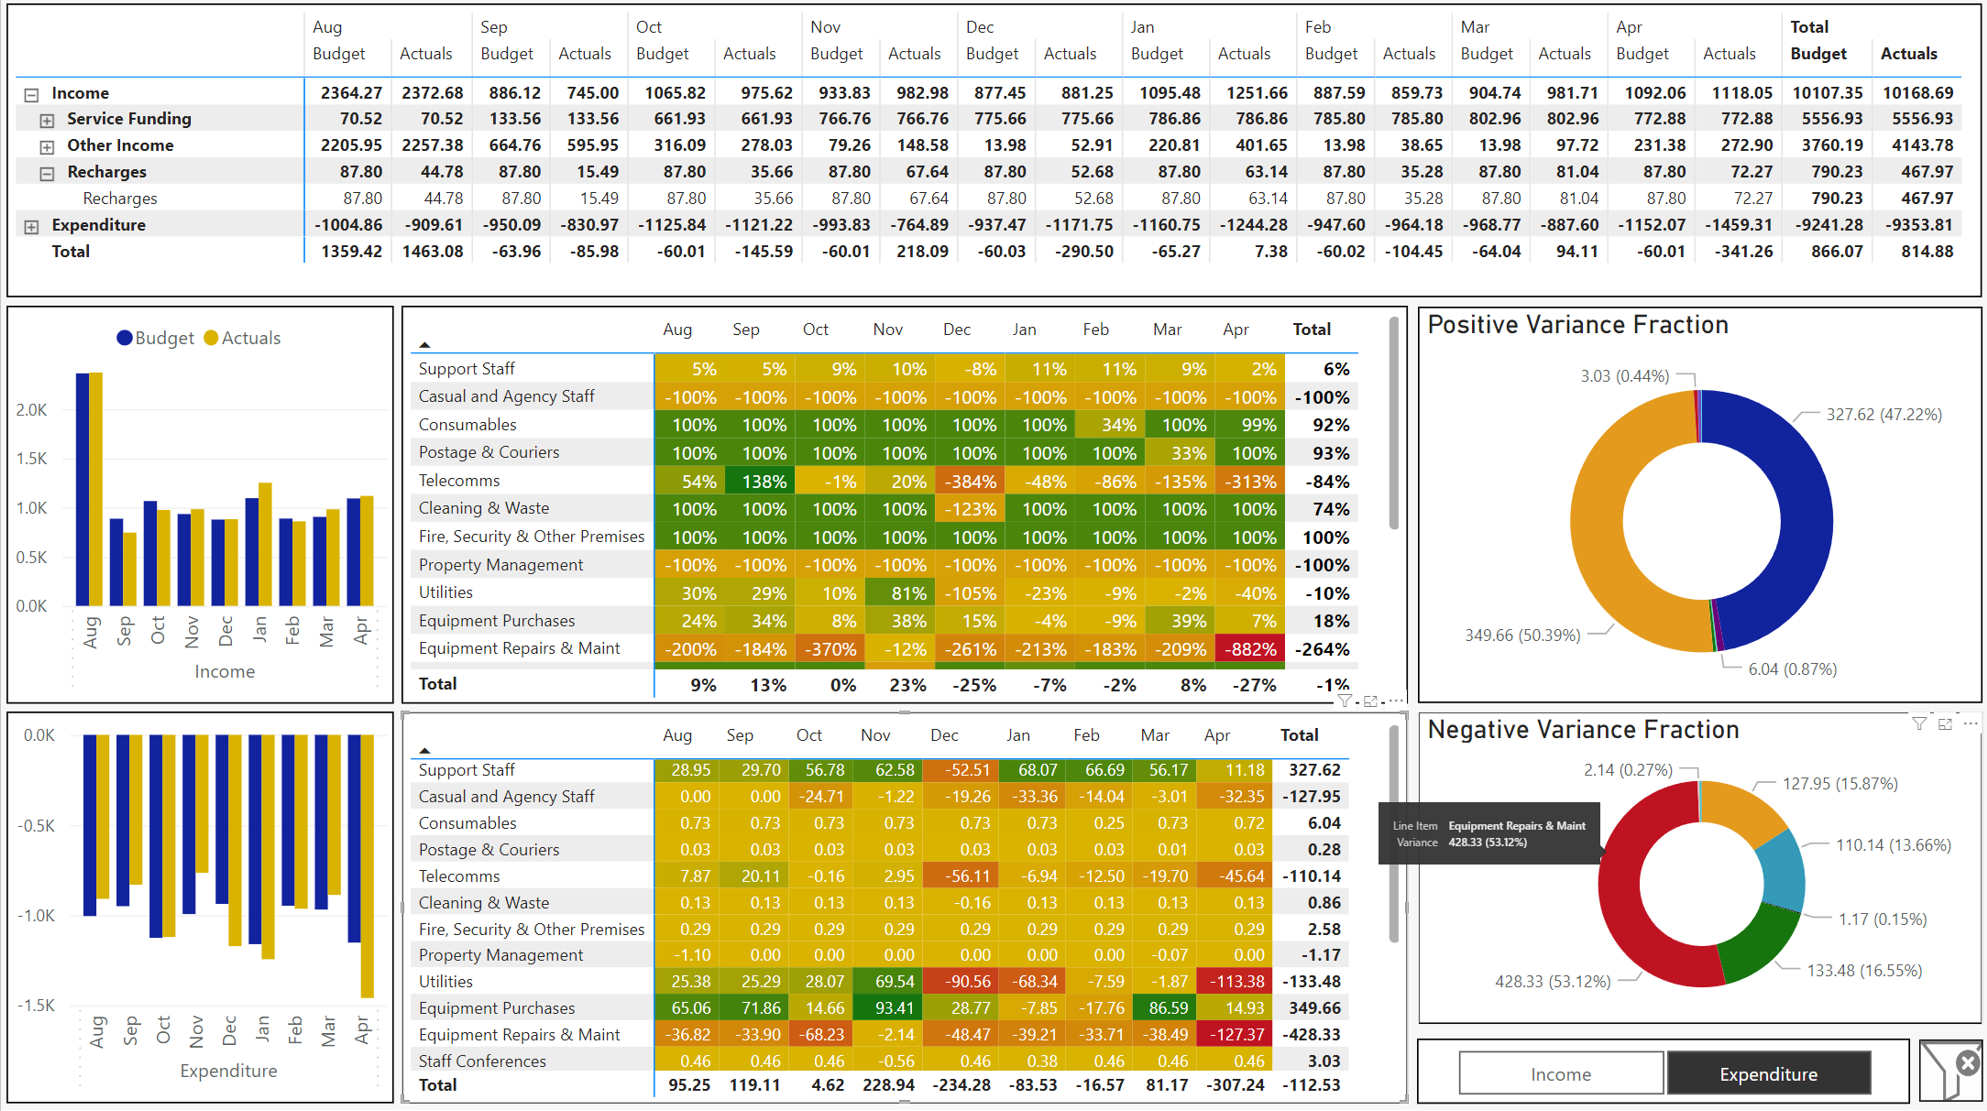

What the dashboard file says about the page in this screenshot:
{"tool":"powerbi","page":{"name":"Page 1","canvas":[1280,720],"ordinal":0},"visuals":[{"type":"slicer","fields":{"Values":["IE_Data.IE"]},"box":[46.7,596.5,150.5,49.8],"z":0},{"type":"slicer","fields":{"Values":["IE_Data.IE"]},"box":[98.3,247.6,143.8,51.6],"z":1000},{"type":"clusteredColumnChart","title":"Income by Month","fields":{"Category":["IE_Data.IE","IE_Data.Month"],"Y":["Sum(IE_Data.Budget)","Sum(IE_Data.Actuals)"]},"box":[4.9,460.8,249.4,251.9],"z":2000},{"type":"clusteredColumnChart","title":"Income by Month","fields":{"Category":["IE_Data.IE","IE_Data.Month"],"Y":["IE_Data.Budget_ABS","IE_Data.Actuals_ABS"]},"box":[4.9,199.7,249.4,256.2],"z":3000},{"type":"pivotTable","fields":{"Rows":["IE_Data.IE","IE_Data.Category","IE_Data.Subcategory"],"Columns":["IE_Data.Month"],"Values":["Sum(IE_Data.Budget)","Sum(IE_Data.Actuals)"]},"box":[4.9,5.5,1269.8,188.6],"z":4000},{"type":"pivotTable","fields":{"Columns":["IE_Data.Month"],"Values":["IE_Data.Varience"],"Rows":["IE_Data.Subcategory"]},"box":[258.6,460.8,646.9,251.9],"z":5000},{"type":"pivotTable","fields":{"Rows":["IE_Data.Subcategory"],"Columns":["IE_Data.Month"],"Values":["IE_Data.Varience %"]},"box":[258.6,199.7,646.9,256.2],"z":6000},{"type":"slicer","fields":{"Values":["IE_Data.IE"]},"box":[911.7,670.9,317,41.8],"z":7000},{"type":"donutChart","title":"Positive Variance Fraction","fields":{"Y":["IE_Data.Variance_Positive"],"Category":["IE_Data.Subcategory"]},"box":[911.9,200.2,362.8,255.5],"z":8000},{"type":"donutChart","title":"Negative Variance Fraction","fields":{"Category":["IE_Data.Subcategory"],"Y":["IE_Data.Variance_Negative"]},"box":[911.9,460.9,362.8,201.5],"z":9000},{"type":"actionButton","box":[1234.2,671.5,40.5,39.9],"z":9001}]}

Visuals, with their boxes in screenshot pixels (x1, y1, x2, y2), scaled from the page's 1280x720 canvas onto the 1987x1111 screenshot:
slicer - IE_Data.IE: box=[72, 920, 306, 997]
slicer - IE_Data.IE: box=[153, 382, 376, 462]
"Income by Month" clusteredColumnChart: box=[8, 711, 395, 1100]
"Income by Month" clusteredColumnChart: box=[8, 308, 395, 703]
pivotTable - IE_Data.IE x IE_Data.Category: box=[8, 8, 1979, 300]
pivotTable - IE_Data.Month x IE_Data.Varience: box=[401, 711, 1406, 1100]
pivotTable - IE_Data.Subcategory x IE_Data.Month: box=[401, 308, 1406, 703]
slicer - IE_Data.IE: box=[1415, 1035, 1907, 1100]
"Positive Variance Fraction" donutChart: box=[1416, 309, 1979, 703]
"Negative Variance Fraction" donutChart: box=[1416, 711, 1979, 1022]
actionButton: box=[1916, 1036, 1979, 1098]
